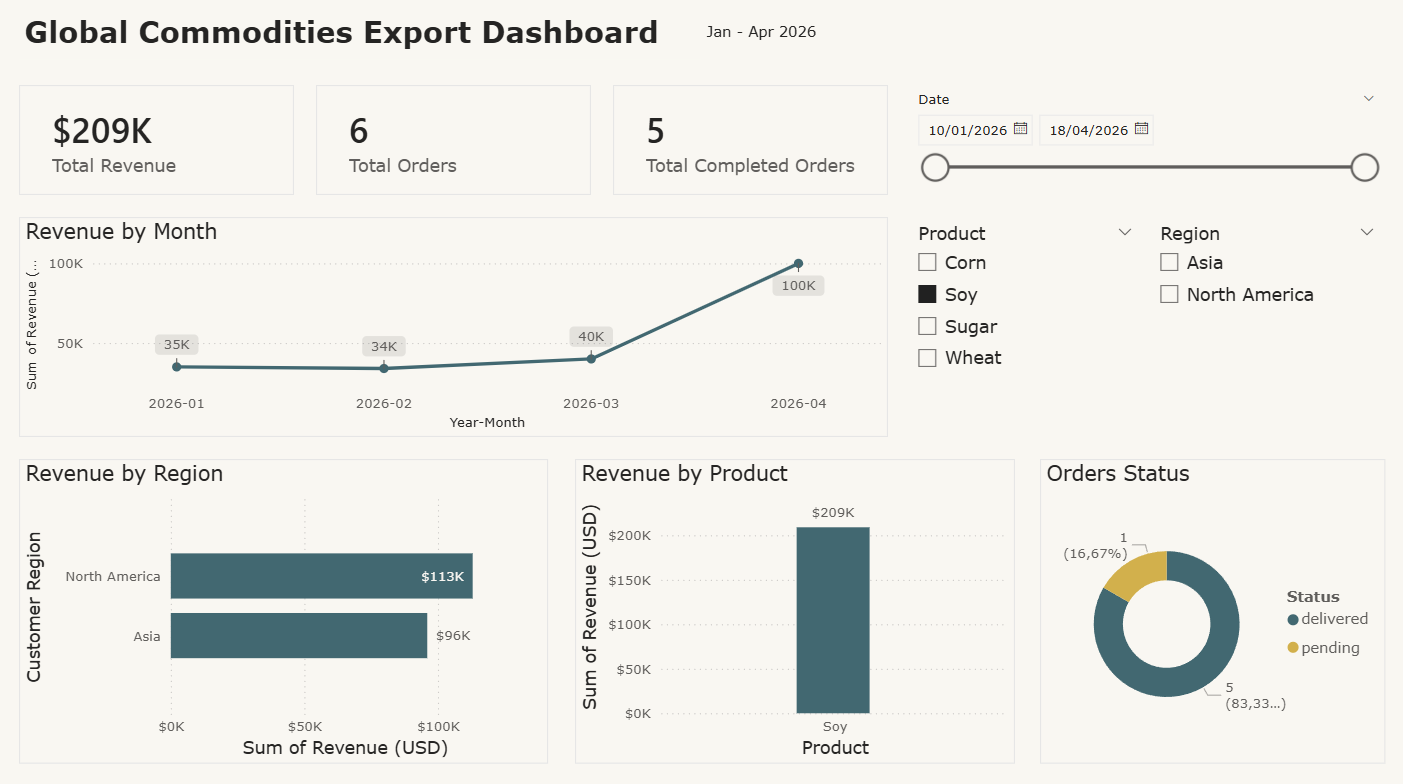

Layout of this report page (visuals, bound fields, positions):
{"tool":"powerbi","page":{"name":"Page 1","canvas":[1280,720],"ordinal":0},"visuals":[{"type":"cardVisual","fields":{"Data":["Sum(sales.revenue_usd)"]},"box":[20,80,250,100],"z":0},{"type":"cardVisual","fields":{"Data":["CountNonNull(sales.order_id)"]},"box":[290,80,250,100],"z":1000},{"type":"cardVisual","fields":{"Data":["CountNonNull(sales.order_id)"]},"box":[560,80,250,100],"z":2000},{"type":"lineChart","title":"Revenue by Month","fields":{"Category":["sales.year_month"],"Y":["Sum(sales.revenue_usd)"]},"box":[20,200,790,200],"z":3000},{"type":"barChart","title":"Revenue by Region","fields":{"Y":["Sum(sales.revenue_usd)"],"Category":["sales.customers.region"]},"box":[20,420,481.4,277.1],"z":4000},{"type":"donutChart","title":"Orders Status","fields":{"Category":["sales.orders.status"],"Y":["CountNonNull(sales.order_id)"]},"box":[948.6,420,314.3,277.1],"z":5000},{"type":"columnChart","title":"Revenue by Product","fields":{"Category":["sales.product"],"Y":["Sum(sales.revenue_usd)"]},"box":[525.7,420,400,277.1],"z":6000},{"type":"slicer","fields":{"Values":["sales.customers.region"]},"box":[1044.3,200,220,150],"z":7000},{"type":"slicer","fields":{"Values":["sales.product"]},"box":[824.3,200,220,150],"z":7001},{"type":"slicer","fields":{"Values":["sales.date"]},"box":[824.3,80,440,120],"z":7002},{"type":"textbox","box":[20,10,620,47.1],"z":7003},{"type":"textbox","box":[640,18.6,128.6,30],"z":7004}]}

Visuals, with their boxes in screenshot pixels (x1, y1, x2, y2), scaled from the page's 1280x720 canvas onto the 1403x784 screenshot:
cardVisual - Sum(sales.revenue_usd): 22,87,296,196
cardVisual - CountNonNull(sales.order_id): 318,87,592,196
cardVisual - CountNonNull(sales.order_id): 614,87,888,196
"Revenue by Month" lineChart: 22,218,888,436
"Revenue by Region" barChart: 22,457,550,759
"Orders Status" donutChart: 1040,457,1384,759
"Revenue by Product" columnChart: 576,457,1015,759
slicer - sales.customers.region: 1145,218,1386,381
slicer - sales.product: 904,218,1145,381
slicer - sales.date: 904,87,1386,218
textbox: 22,11,702,62
textbox: 702,20,842,53
